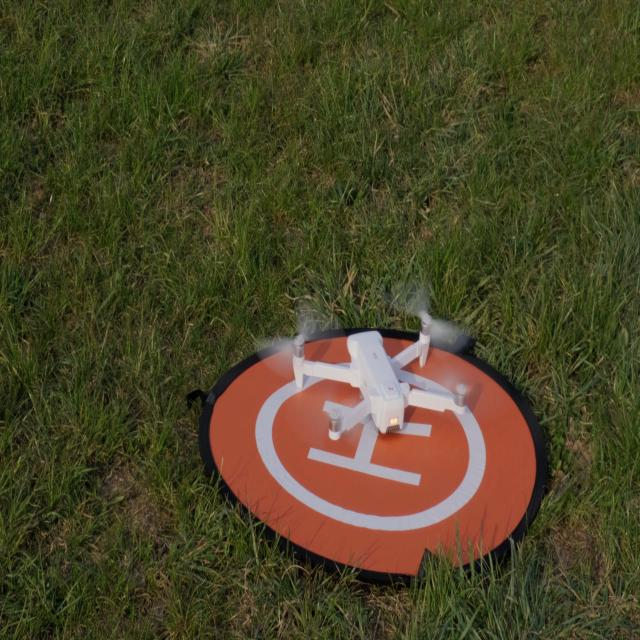drone: (292, 308, 474, 442)
